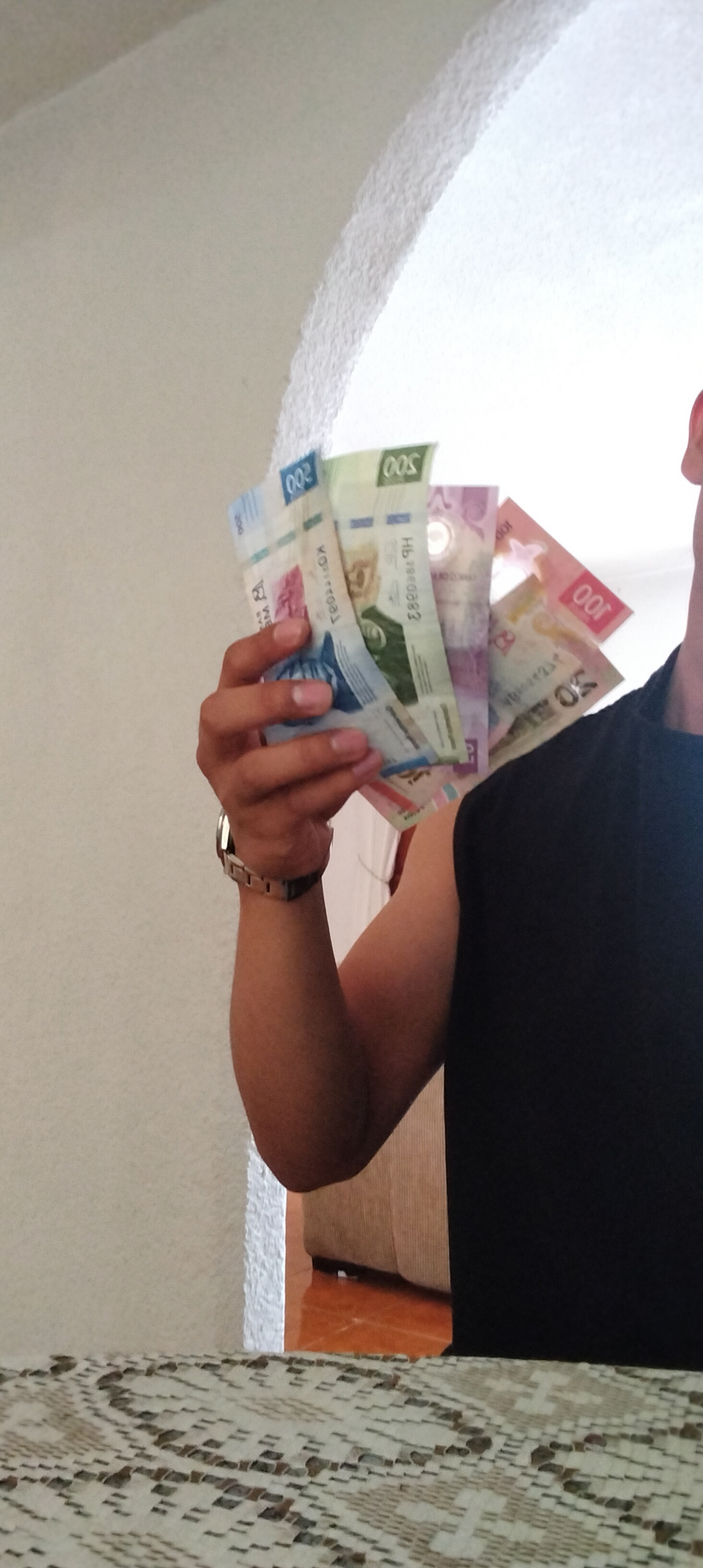billetes: (201, 416, 632, 806)
